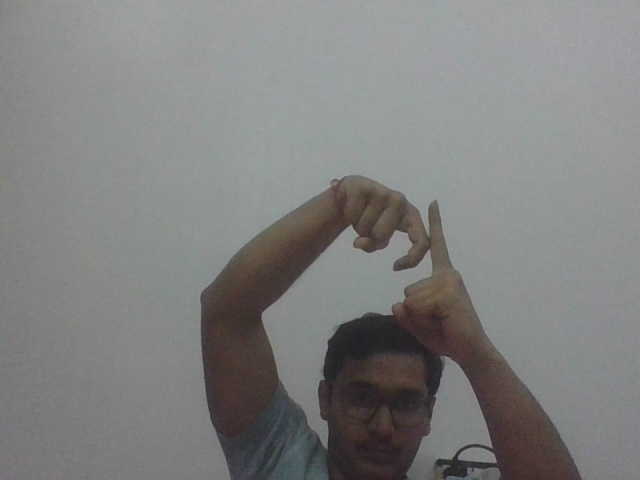K: (339, 173, 476, 332)
